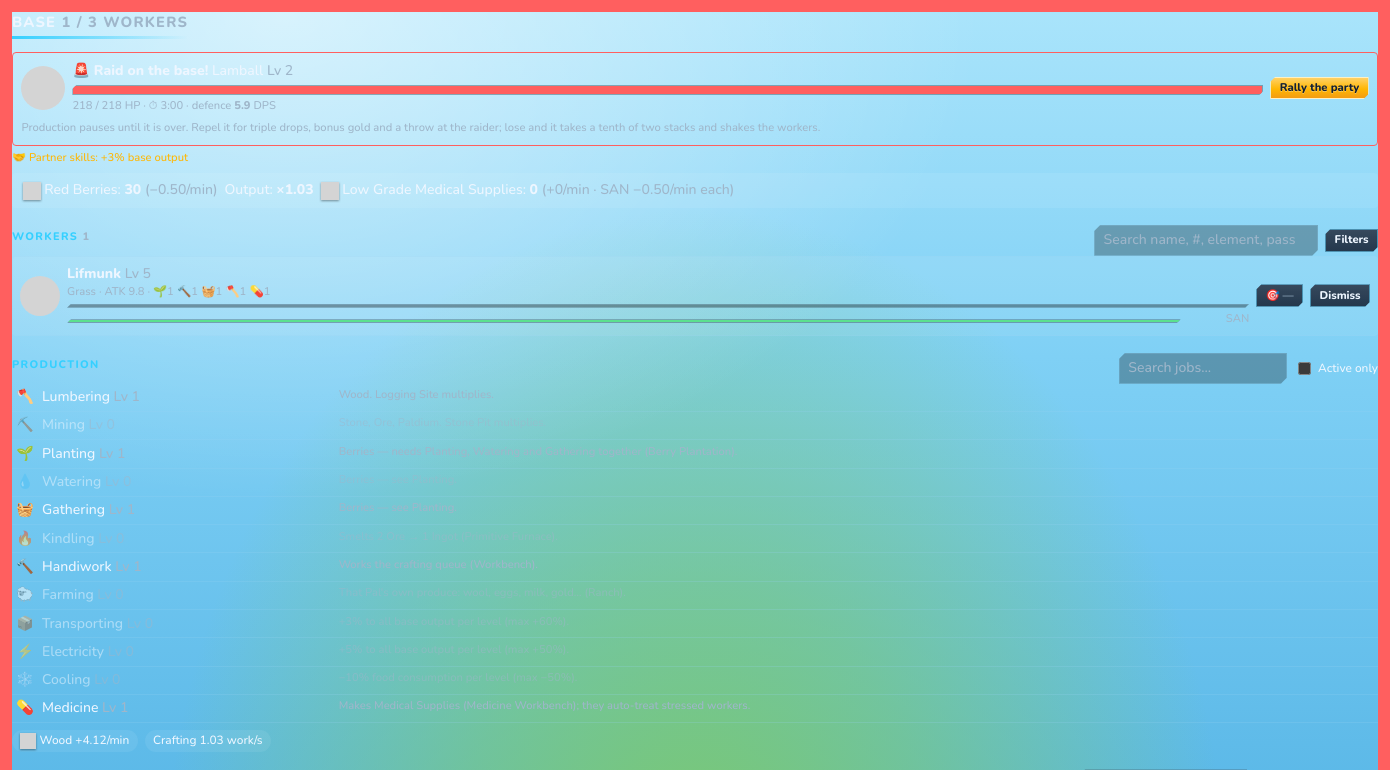
Test: BaseView raid banner › shows the raid with its clock and defence, and rallies the party
The image size is (1390, 770).
Expected: the element with class "raid" shows "Raid on the base!", [72,61,208,80]
Expected: the element with class "raid" shows "Lamball Lv 2", [12,52,1378,146]
Click the button "Rally the party".
click(1319, 88)  # box [1270,77,1369,99]
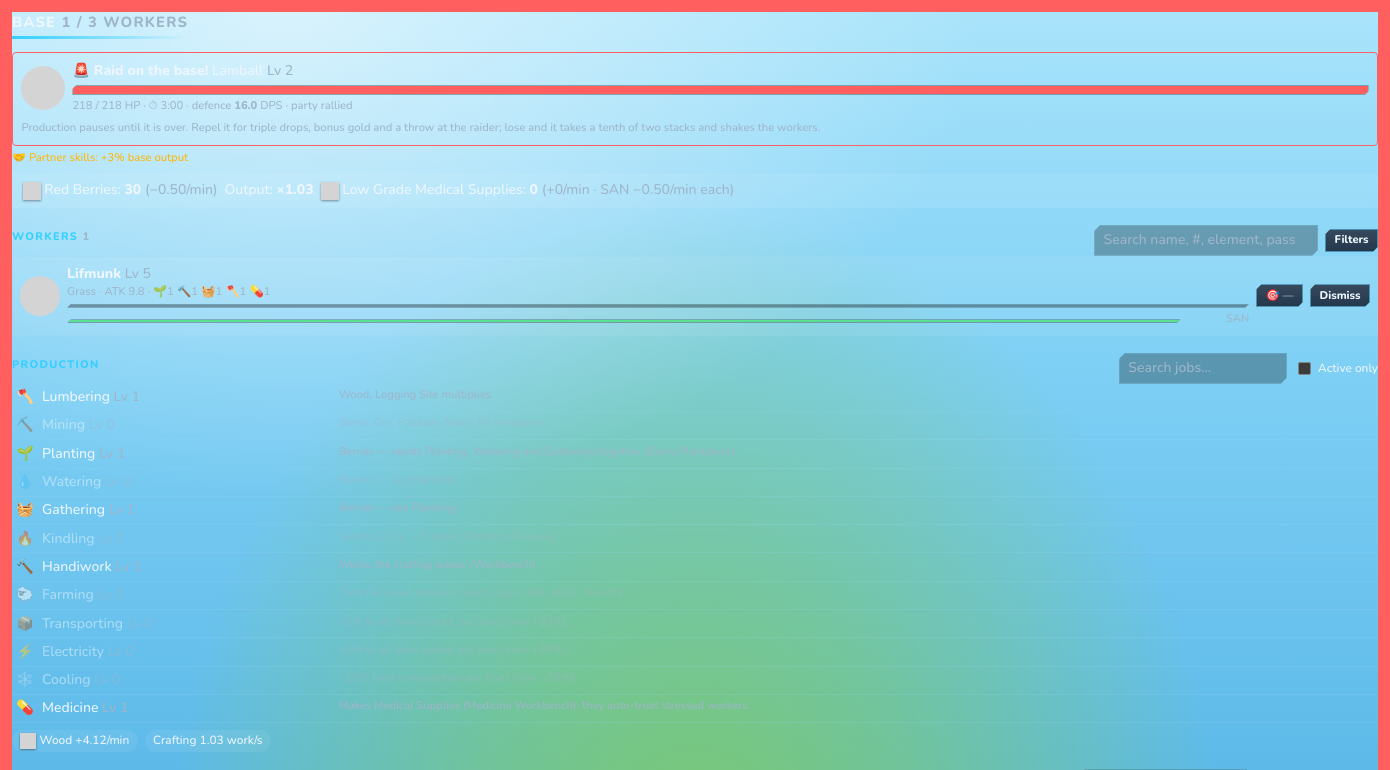
Now the button "Rally the party" is gone
